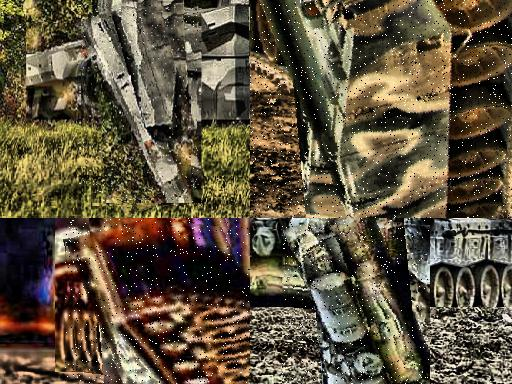tanks: (258, 1, 512, 219), (66, 219, 251, 384), (79, 7, 203, 203), (283, 219, 430, 384)
